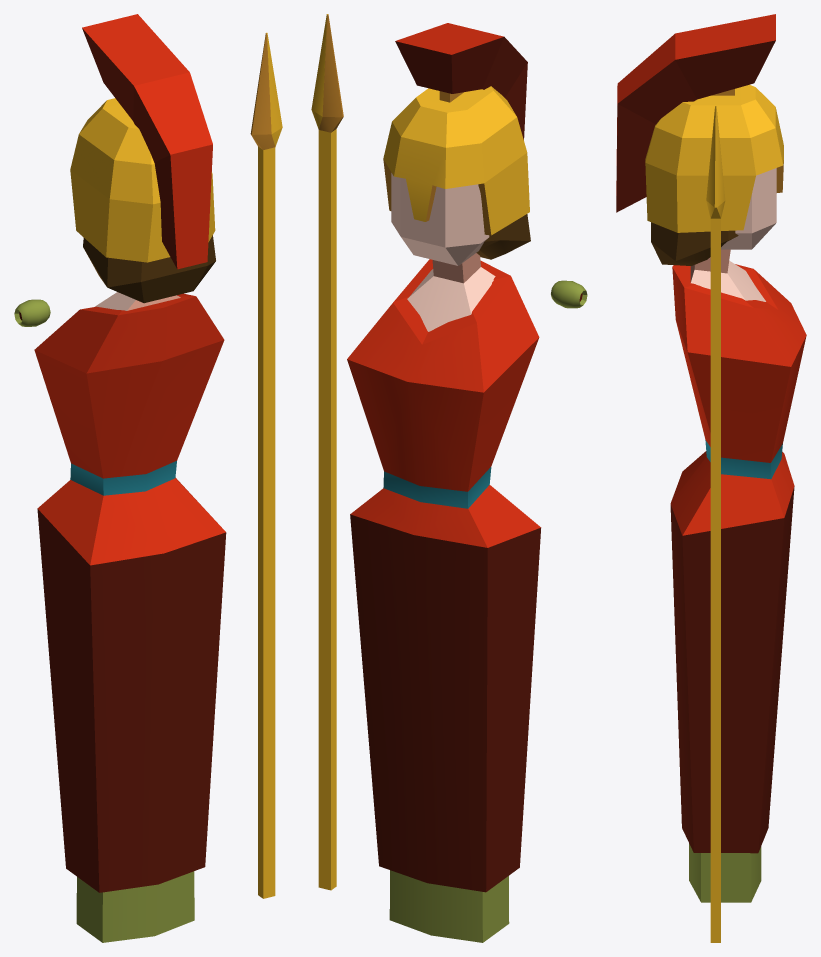
The model's file is Athena.fbx.
The picture shows the model from 3 angles, left to right: view 1: azimuth 30°, elevation 25°; view 2: azimuth 150°, elevation 25°; view 3: azimuth 270°, elevation 25°; orthographic projection. The views are drawn at different scales.
Parts seen in each view (by area): view 1: Athena, Spear, Olive; view 2: Athena, Spear, Olive; view 3: Athena, Spear.
Boxes of the visible parts, left/top/right/bottom form: Athena: left=34, top=14, right=226, bottom=942; Spear: left=250, top=32, right=282, bottom=898; Olive: left=14, top=299, right=50, bottom=326; Athena: left=347, top=23, right=541, bottom=942; Spear: left=311, top=14, right=343, bottom=890; Olive: left=551, top=280, right=587, bottom=308; Athena: left=616, top=14, right=806, bottom=902; Spear: left=706, top=105, right=725, bottom=942.
Bounding box in the file's own units: 52.7 × 167 × 33.76.
Materials: 1 (1 with a texture image).
